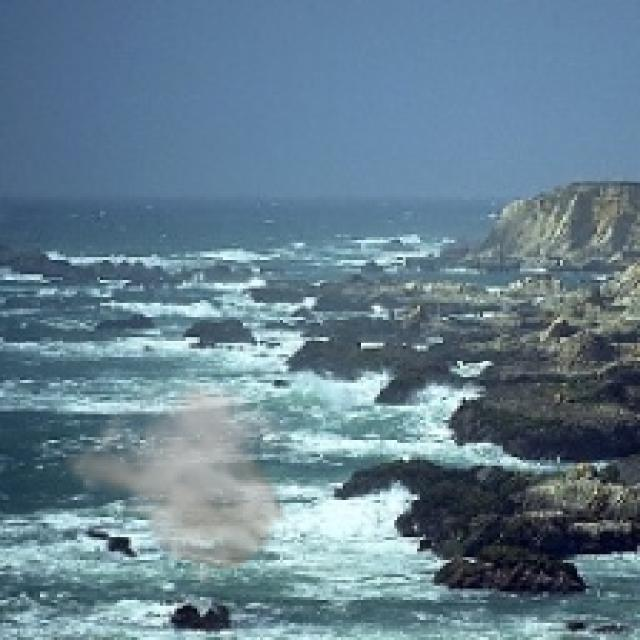smoke: (54, 372, 309, 588)
